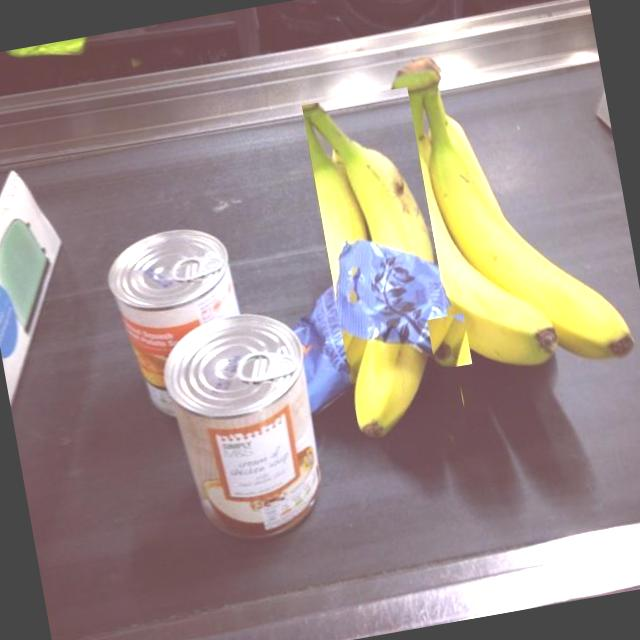Banana: (385, 33, 632, 386), (301, 87, 466, 440)
